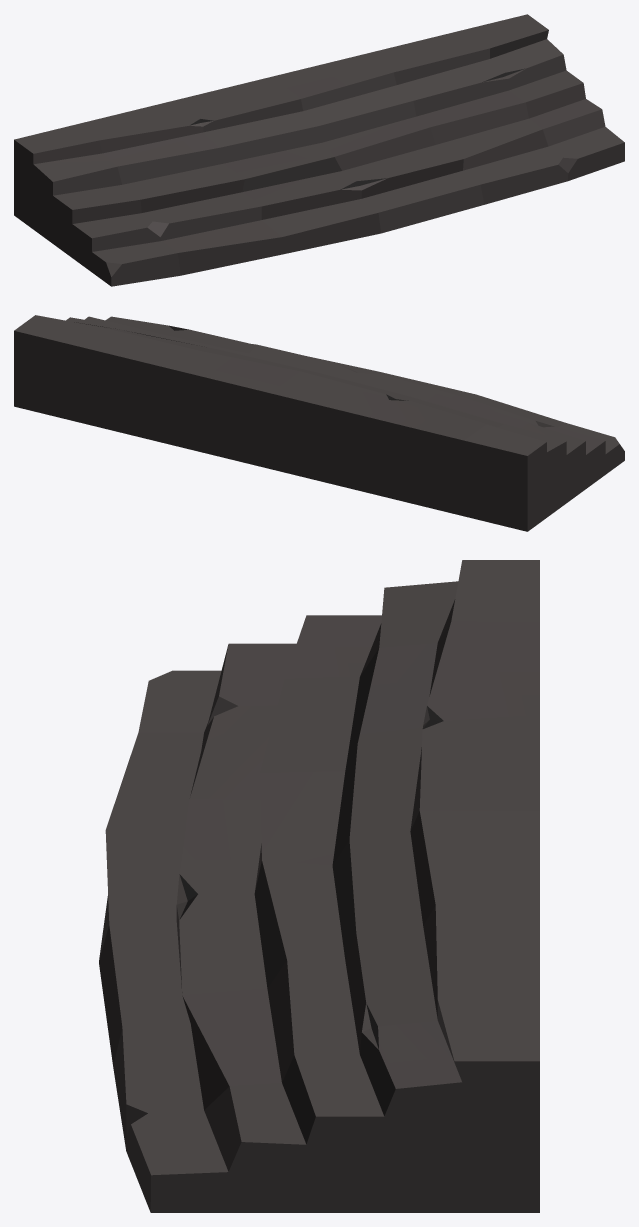
Rendered from Module_Stair_Stones_3M.glb.
The picture shows the model from 3 angles, top to bottom: view 1: azimuth 30°, elevation 25°; view 2: azimuth 150°, elevation 25°; view 3: azimuth 270°, elevation 25°; orthographic projection. The views are drawn at different scales.
Visible parts, largest first — view 1: Module_Stair_Stones_3M; view 2: Module_Stair_Stones_3M; view 3: Module_Stair_Stones_3M.
Boxes of the visible parts, x1,y1,x2,y2 form: Module_Stair_Stones_3M: (14, 14, 624, 286); Module_Stair_Stones_3M: (14, 315, 624, 531); Module_Stair_Stones_3M: (99, 560, 539, 1212).
Size of what is drawn, in the model's own units: 3 by 0.4233 by 1.12.
1 material, 1 textured.
